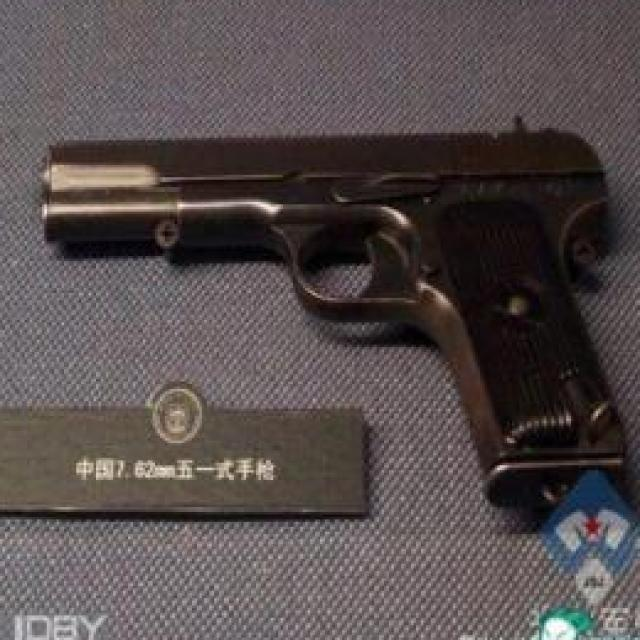pistol: (42, 116, 624, 529)
